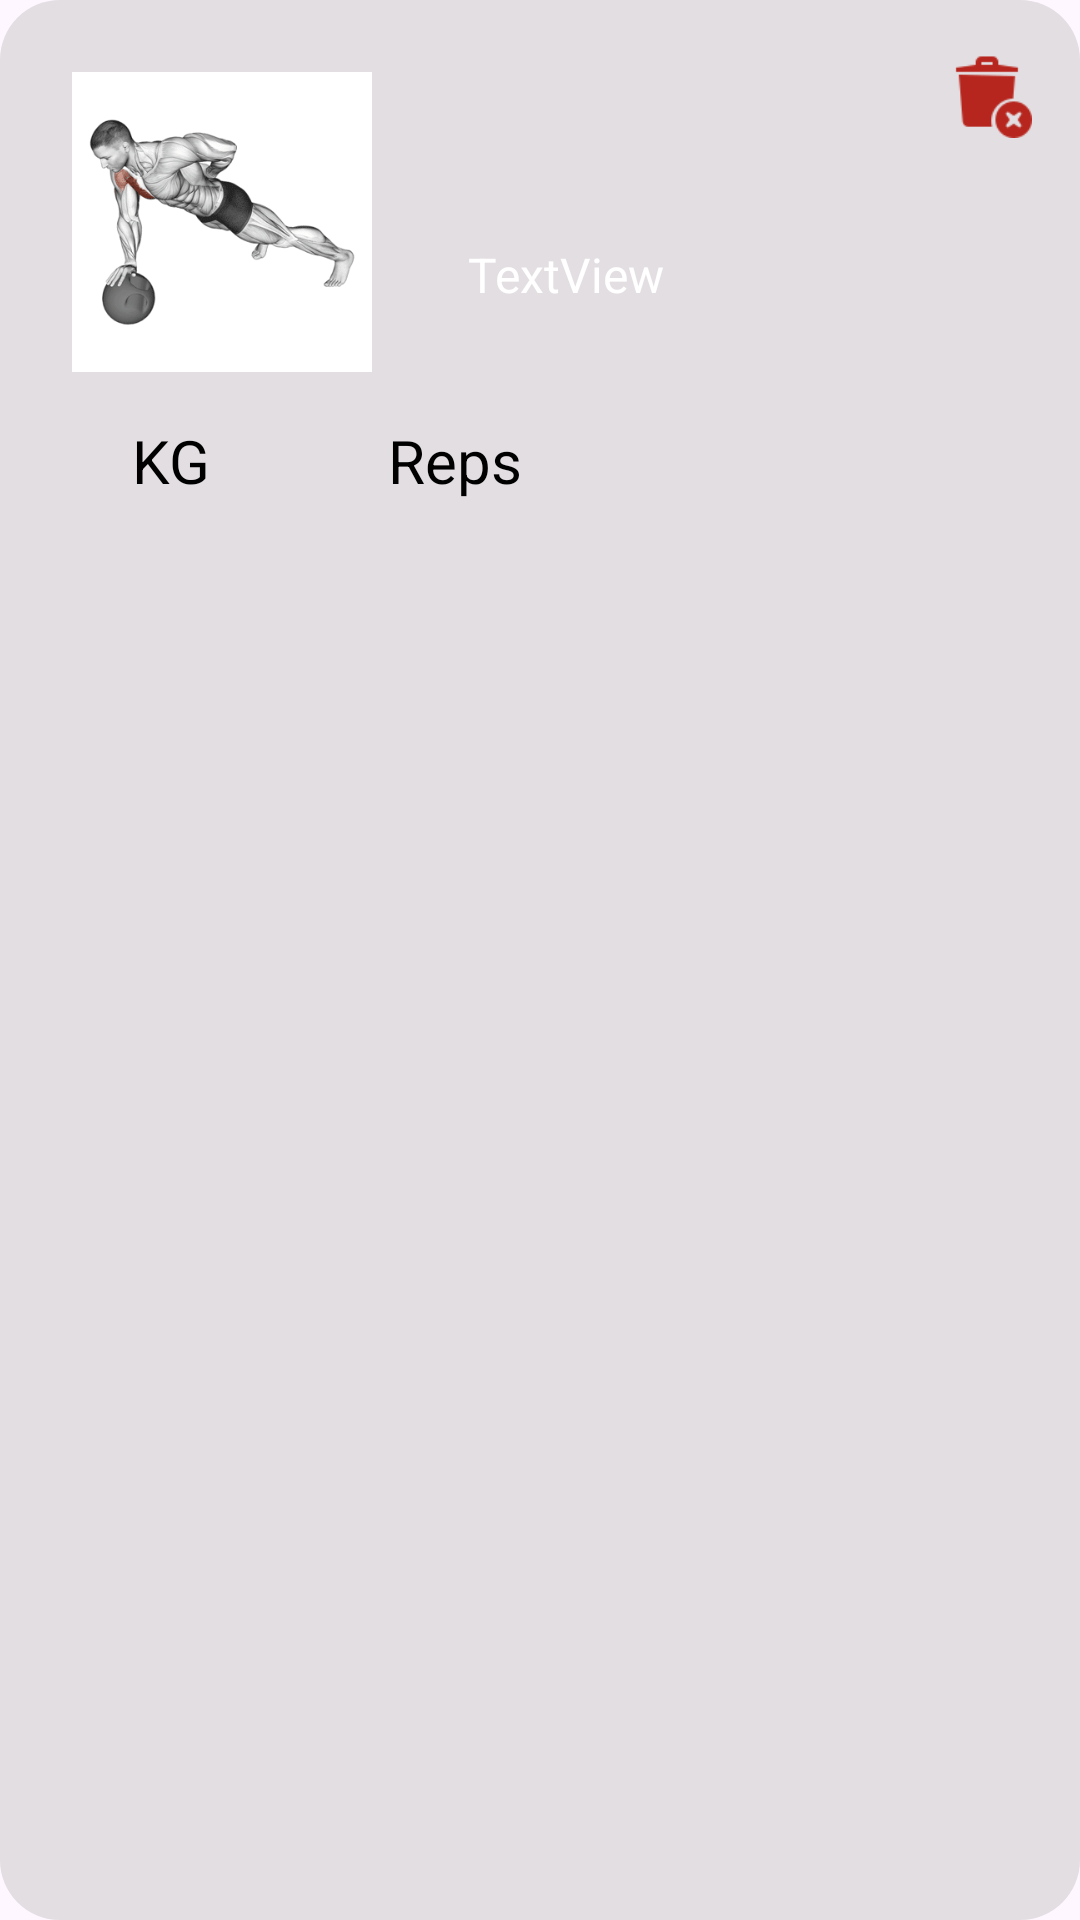

Where to tap for icons on this 1080×1920 app screen, as point (x, y):
papelera: point (994, 97)
pec: point (222, 222)
